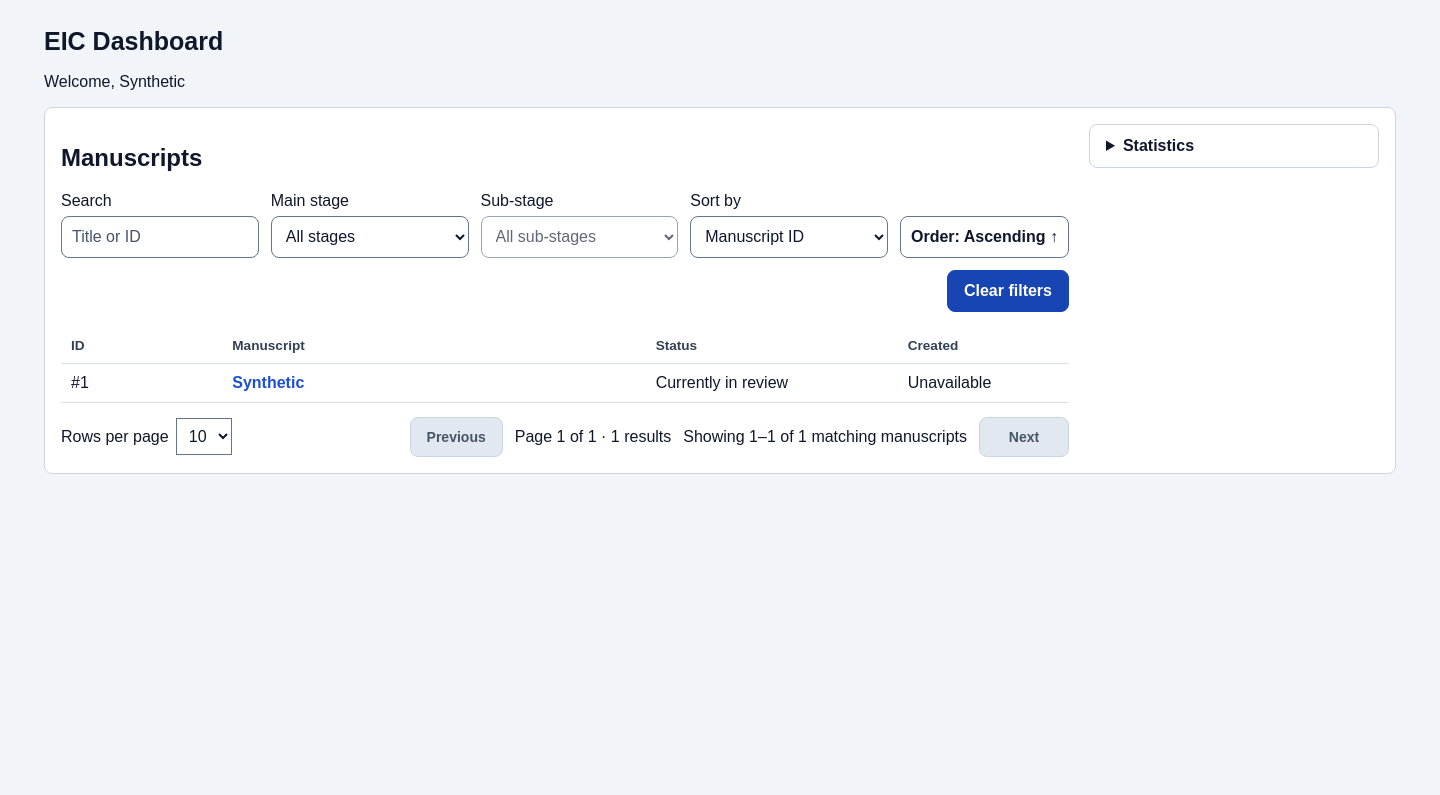
Test: allows only the current manuscript and round target
The width and height of the screenshot is (1440, 795).
What coordinates should you click on to do the following:
click the button with aria-label "#1 Synthetic"
I would click on:
 (268, 383)
Its box is x1=232 y1=374 x2=304 y2=392.
(page scrolled)
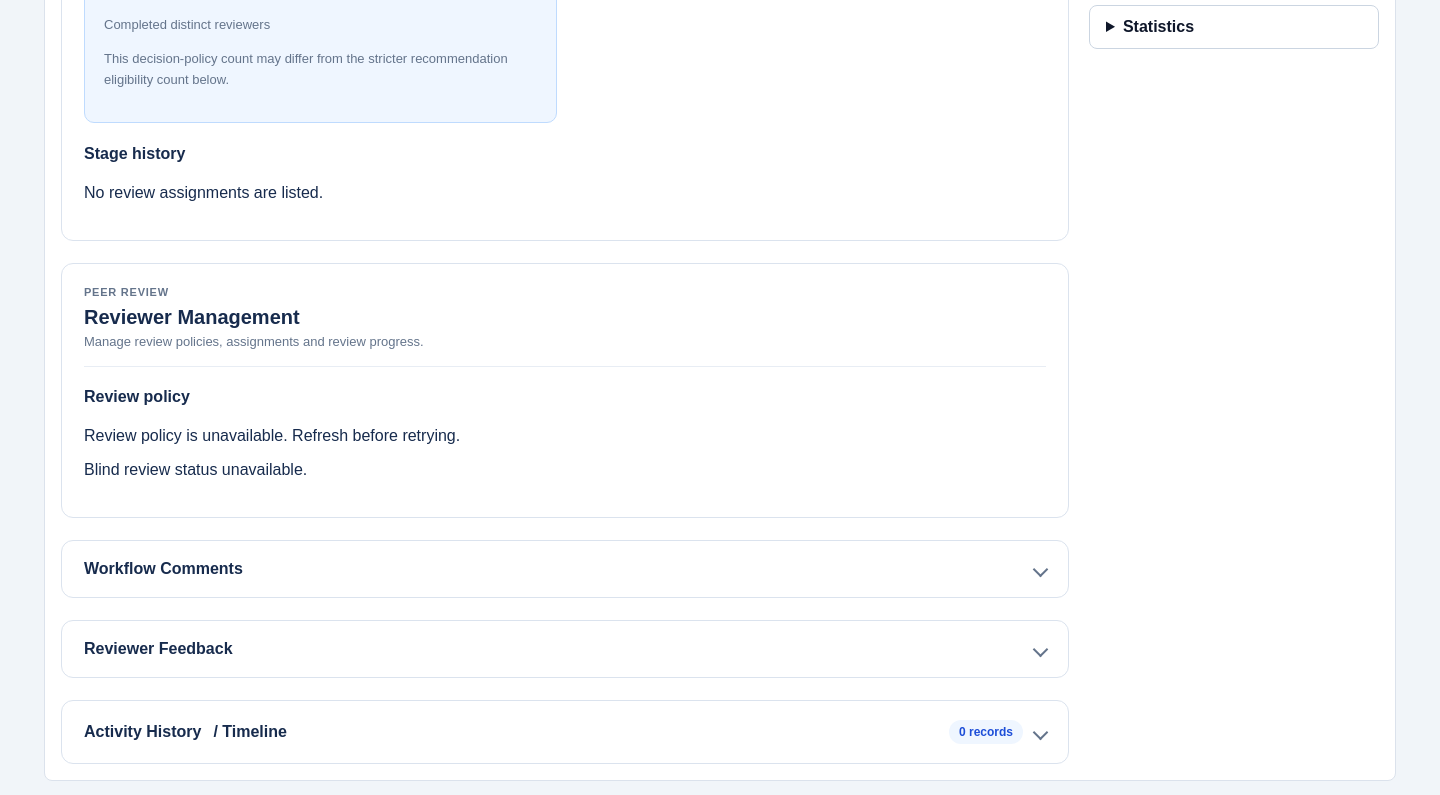
Expected: the element with id "eic-reviewer-management-1" is shown, x1=61 y1=263 x2=1069 y2=518
